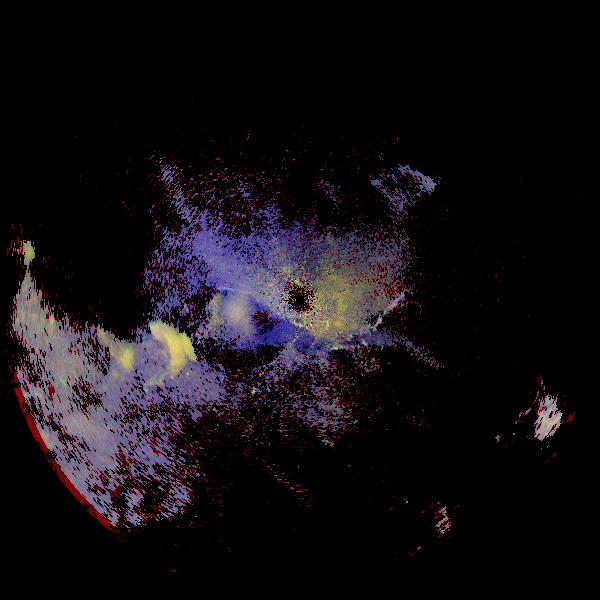roost: (99, 300, 219, 420), (155, 272, 251, 368)
